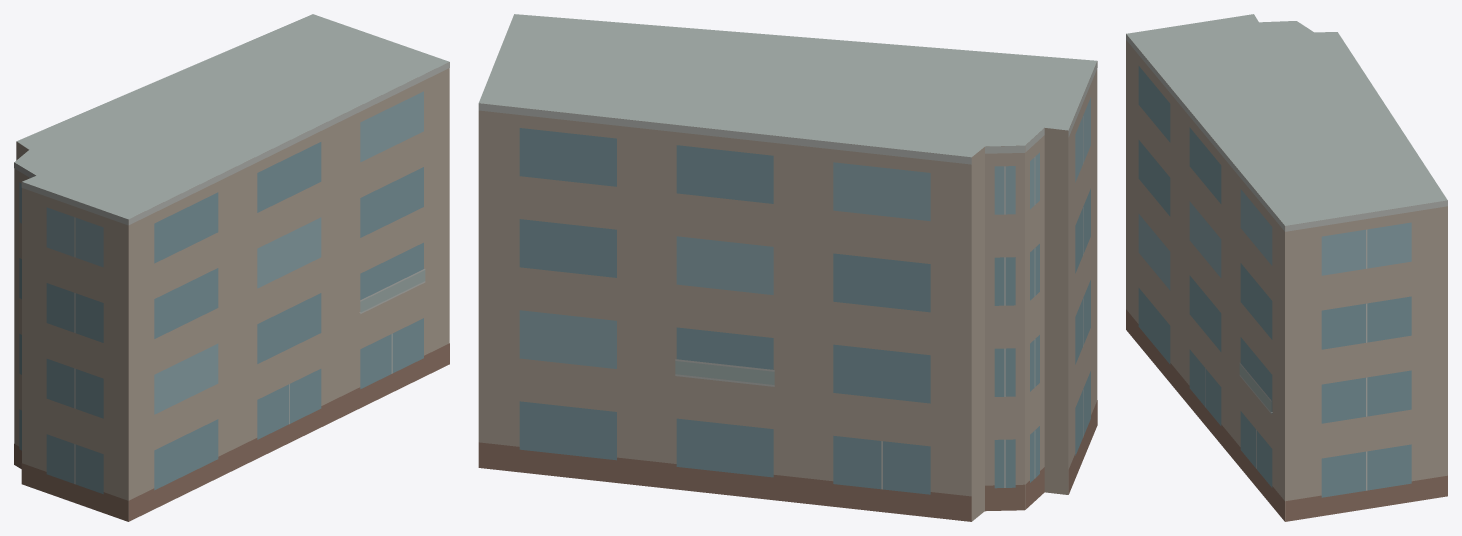
The model's file is survey-upis-32636204.glb.
The picture shows the model from 3 angles, left to right: view 1: azimuth 30°, elevation 25°; view 2: azimuth 150°, elevation 25°; view 3: azimuth 270°, elevation 25°; orthographic projection. The views are drawn at different scales.
Visible parts, largest first — view 1: survey-upis-32636204.tmp; view 2: survey-upis-32636204.tmp; view 3: survey-upis-32636204.tmp.
Boxes of the visible parts, <box> form: survey-upis-32636204.tmp: <box>14,14,449,521</box>; survey-upis-32636204.tmp: <box>478,14,1097,521</box>; survey-upis-32636204.tmp: <box>1126,14,1447,521</box>.
Size of the model in its own units: 18.75 by 12.2 by 12.03.
